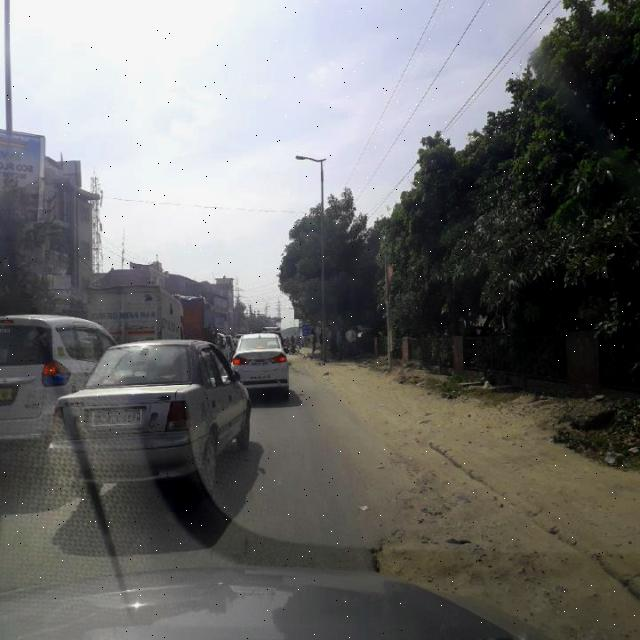D40: (368, 487, 482, 581)
